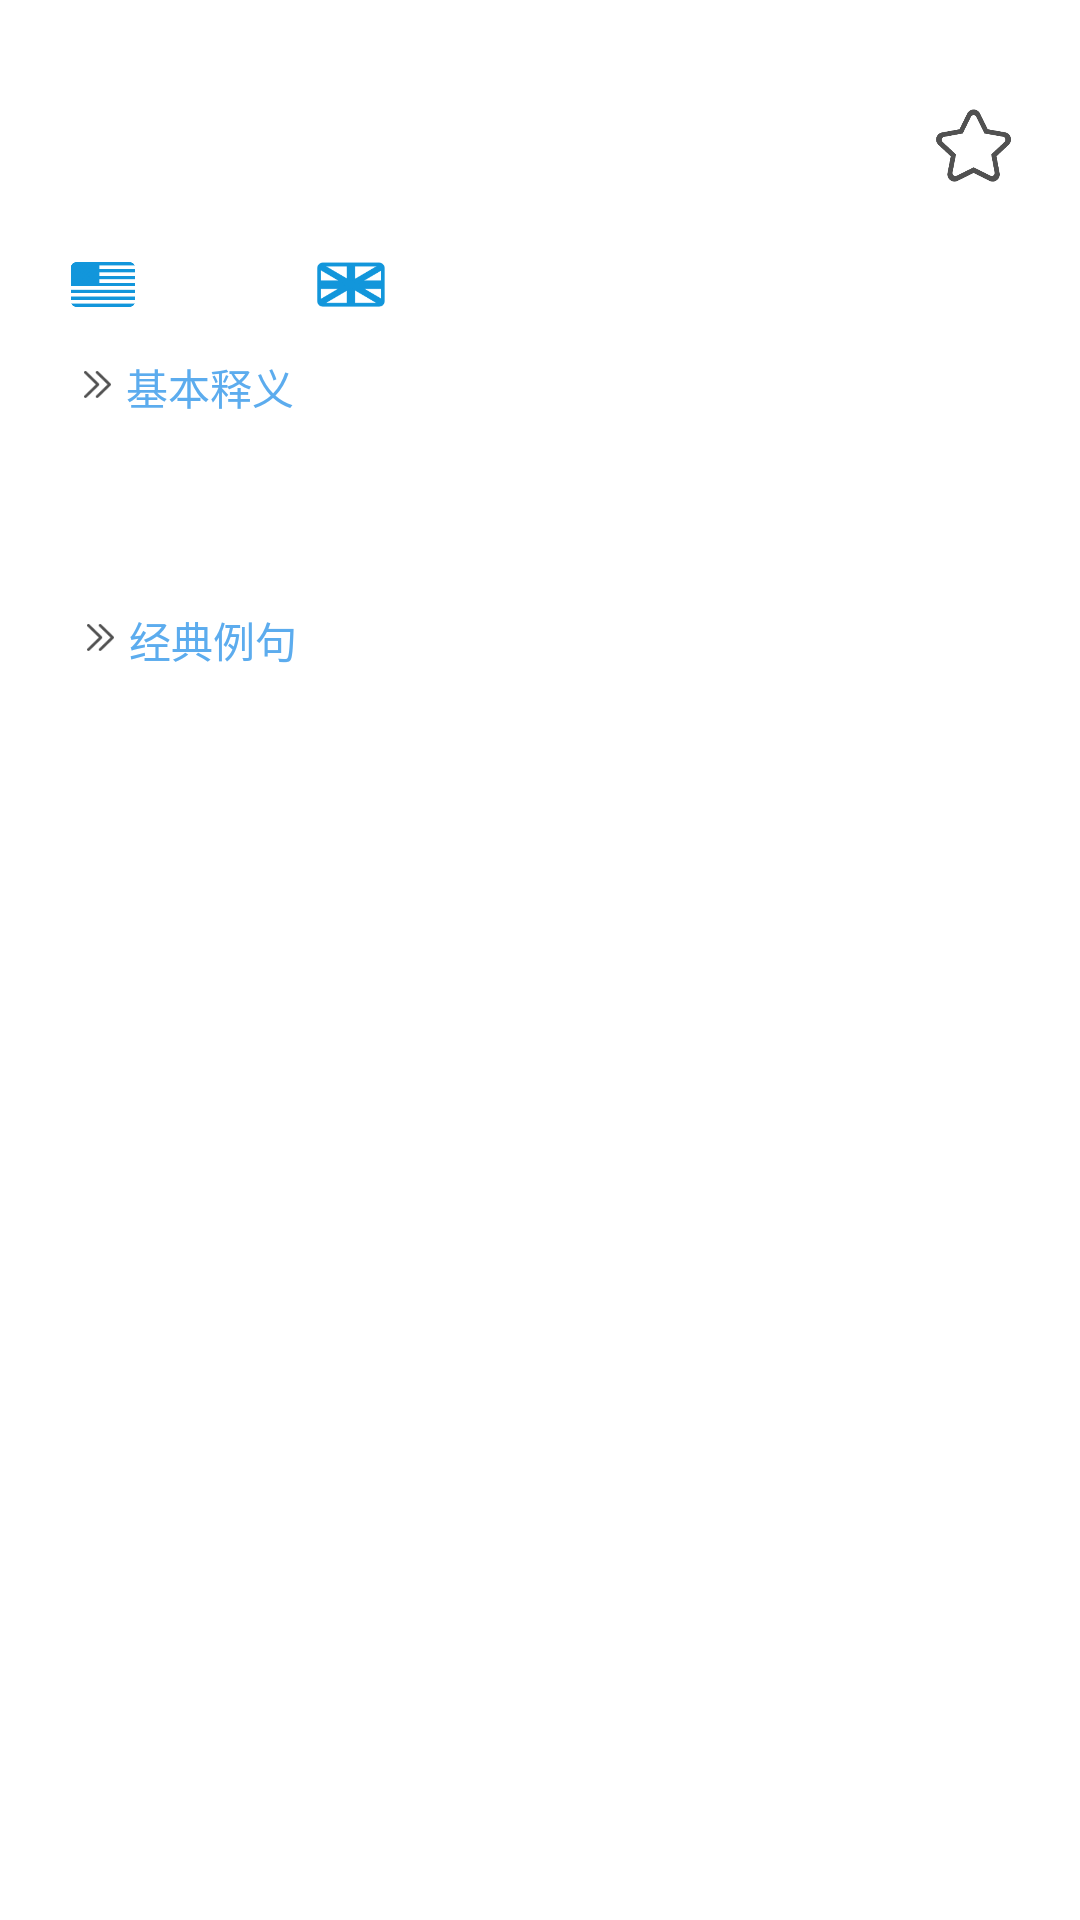

Icon click points for this 1080*1920 phone screenshot, format [x,y]:
arrow: [97,384], [100,637]
tosave: [973,145]
